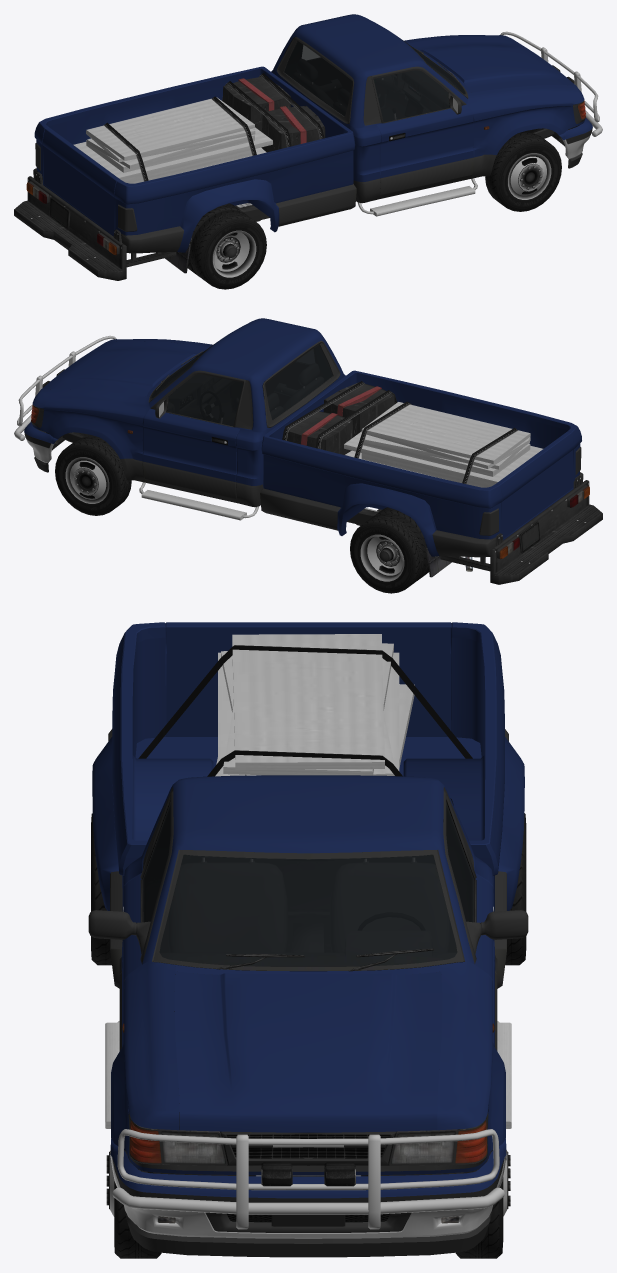
File: pickup-blender.glb
3 renders of one model, top to bottom at view 1: azimuth 30°, elevation 25°; view 2: azimuth 150°, elevation 25°; view 3: azimuth 270°, elevation 25°, orthographic. The views are drawn at different scales.
Visible parts, largest first — view 1: UTLTRUCK90_Truckbed_UTLTRUCK90_Bodymat_0, UTLTRUCK90_Body_UTLTRUCK90_Bodymat_0, UTLTRUCK90_Truckbed_Trim_UCB_BOTTOM_0, UTLTRUCK90_bottom_UCB_BOTTOM_0, UTLTRUCK90_Hood_UTLTRUCK90_Bodymat_0, UTLTRUCK90_Interior_UCB_Interiors_1_0, wheel_rr_rueda, UTLTRUCK90_Bumper_rear_UCB_BOTTOM_0, wheel_fr_rueda, UTLTRUCK90_Glass_Passenger_UCB_Lights_and_Glass_Transperent_, UTLTRUCK90_Glass_Rear_UCB_Lights_and_Glass_Transperent_0, UTLTRUCK90_Bullbar_B_UCB_BOTTOM_0 (+3 smaller); view 2: UTLTRUCK90_Truckbed_UTLTRUCK90_Bodymat_0, UTLTRUCK90_Truckbed_Trim_UCB_BOTTOM_0, UTLTRUCK90_Body_UTLTRUCK90_Bodymat_0, UTLTRUCK90_bottom_UCB_BOTTOM_0, UTLTRUCK90_Hood_UTLTRUCK90_Bodymat_0, wheel_rl_rueda, UTLTRUCK90_Bumper_rear_UCB_BOTTOM_0, UTLTRUCK90_Interior_UCB_Interiors_1_0, wheel_fl_rueda, UTLTRUCK90_Glass_Driver_UCB_Lights_and_Glass_Transperent_0, UTLTRUCK90_Glass_Rear_UCB_Lights_and_Glass_Transperent_0, UTLTRUCK90_Bullbar_B_UCB_BOTTOM_0 (+3 smaller); view 3: UTLTRUCK90_Body_UTLTRUCK90_Bodymat_0, UTLTRUCK90_Truckbed_UTLTRUCK90_Bodymat_0, UTLTRUCK90_Hood_UTLTRUCK90_Bodymat_0, UTLTRUCK90_Interior_UCB_Interiors_1_0, UTLTRUCK90_Truckbed_Trim_UCB_BOTTOM_0, windshield, UTLTRUCK90_bottom_UCB_BOTTOM_0, UTLTRUCK90_Bumper_front_inner_UCB_BOTTOM_0, UTLTRUCK90_Bullbar_B_UCB_BOTTOM_0, bumper_front, UTLTRUCK90_Headlights_Glass_UCB_Lights_and_Glass_Transperent, wheel_fl_rueda (+8 smaller).
Part boxes in pixels (left/top/right/bottom): UTLTRUCK90_Truckbed_UTLTRUCK90_Bodymat_0: left=34, top=66, right=355, bottom=252; UTLTRUCK90_Body_UTLTRUCK90_Bodymat_0: left=271, top=14, right=584, bottom=181; UTLTRUCK90_Truckbed_Trim_UCB_BOTTOM_0: left=33, top=73, right=356, bottom=267; UTLTRUCK90_bottom_UCB_BOTTOM_0: left=165, top=37, right=585, bottom=273; UTLTRUCK90_Hood_UTLTRUCK90_Bodymat_0: left=408, top=37, right=575, bottom=92; UTLTRUCK90_Interior_UCB_Interiors_1_0: left=279, top=36, right=464, bottom=121; wheel_rr_rueda: left=187, top=203, right=266, bottom=289; UTLTRUCK90_Bumper_rear_UCB_BOTTOM_0: left=14, top=172, right=126, bottom=280; wheel_fr_rueda: left=485, top=132, right=561, bottom=211; UTLTRUCK90_Glass_Passenger_UCB_Lights_and_Glass_Transperent_: left=373, top=70, right=449, bottom=122; UTLTRUCK90_Glass_Rear_UCB_Lights_and_Glass_Transperent_0: left=284, top=41, right=351, bottom=116; UTLTRUCK90_Bullbar_B_UCB_BOTTOM_0: left=500, top=31, right=602, bottom=136; UTLTRUCK90_Truckbed_UTLTRUCK90_Bodymat_0: left=261, top=370, right=581, bottom=556; UTLTRUCK90_Truckbed_Trim_UCB_BOTTOM_0: left=260, top=381, right=583, bottom=571; UTLTRUCK90_Body_UTLTRUCK90_Bodymat_0: left=32, top=318, right=345, bottom=485; UTLTRUCK90_bottom_UCB_BOTTOM_0: left=31, top=340, right=472, bottom=577; UTLTRUCK90_Hood_UTLTRUCK90_Bodymat_0: left=41, top=341, right=208, bottom=396; wheel_rl_rueda: left=350, top=507, right=429, bottom=593; UTLTRUCK90_Bumper_rear_UCB_BOTTOM_0: left=490, top=475, right=602, bottom=584; UTLTRUCK90_Interior_UCB_Interiors_1_0: left=152, top=346, right=331, bottom=427; wheel_fl_rueda: left=55, top=436, right=131, bottom=515; UTLTRUCK90_Glass_Driver_UCB_Lights_and_Glass_Transperent_0: left=167, top=374, right=243, bottom=426; UTLTRUCK90_Glass_Rear_UCB_Lights_and_Glass_Transperent_0: left=265, top=345, right=332, bottom=420; UTLTRUCK90_Bullbar_B_UCB_BOTTOM_0: left=14, top=335, right=116, bottom=440; UTLTRUCK90_Body_UTLTRUCK90_Bodymat_0: left=111, top=775, right=505, bottom=1175; UTLTRUCK90_Truckbed_UTLTRUCK90_Bodymat_0: left=92, top=622, right=524, bottom=941; UTLTRUCK90_Hood_UTLTRUCK90_Bodymat_0: left=174, top=971, right=442, bottom=1132; UTLTRUCK90_Interior_UCB_Interiors_1_0: left=145, top=811, right=471, bottom=966; UTLTRUCK90_Truckbed_Trim_UCB_BOTTOM_0: left=108, top=634, right=508, bottom=988; windshield: left=159, top=854, right=457, bottom=966; UTLTRUCK90_bottom_UCB_BOTTOM_0: left=88, top=787, right=528, bottom=1176; UTLTRUCK90_Bumper_front_inner_UCB_BOTTOM_0: left=110, top=1155, right=506, bottom=1257; UTLTRUCK90_Bullbar_B_UCB_BOTTOM_0: left=112, top=1129, right=504, bottom=1229; bumper_front: left=110, top=1139, right=506, bottom=1198; UTLTRUCK90_Headlights_Glass_UCB_Lights_and_Glass_Transperent: left=130, top=1120, right=486, bottom=1164; wheel_fl_rueda: left=455, top=1150, right=510, bottom=1258.
Bounding box in the file's own units: 5.36 × 1.66 × 2.
6 materials, 5 textured.
